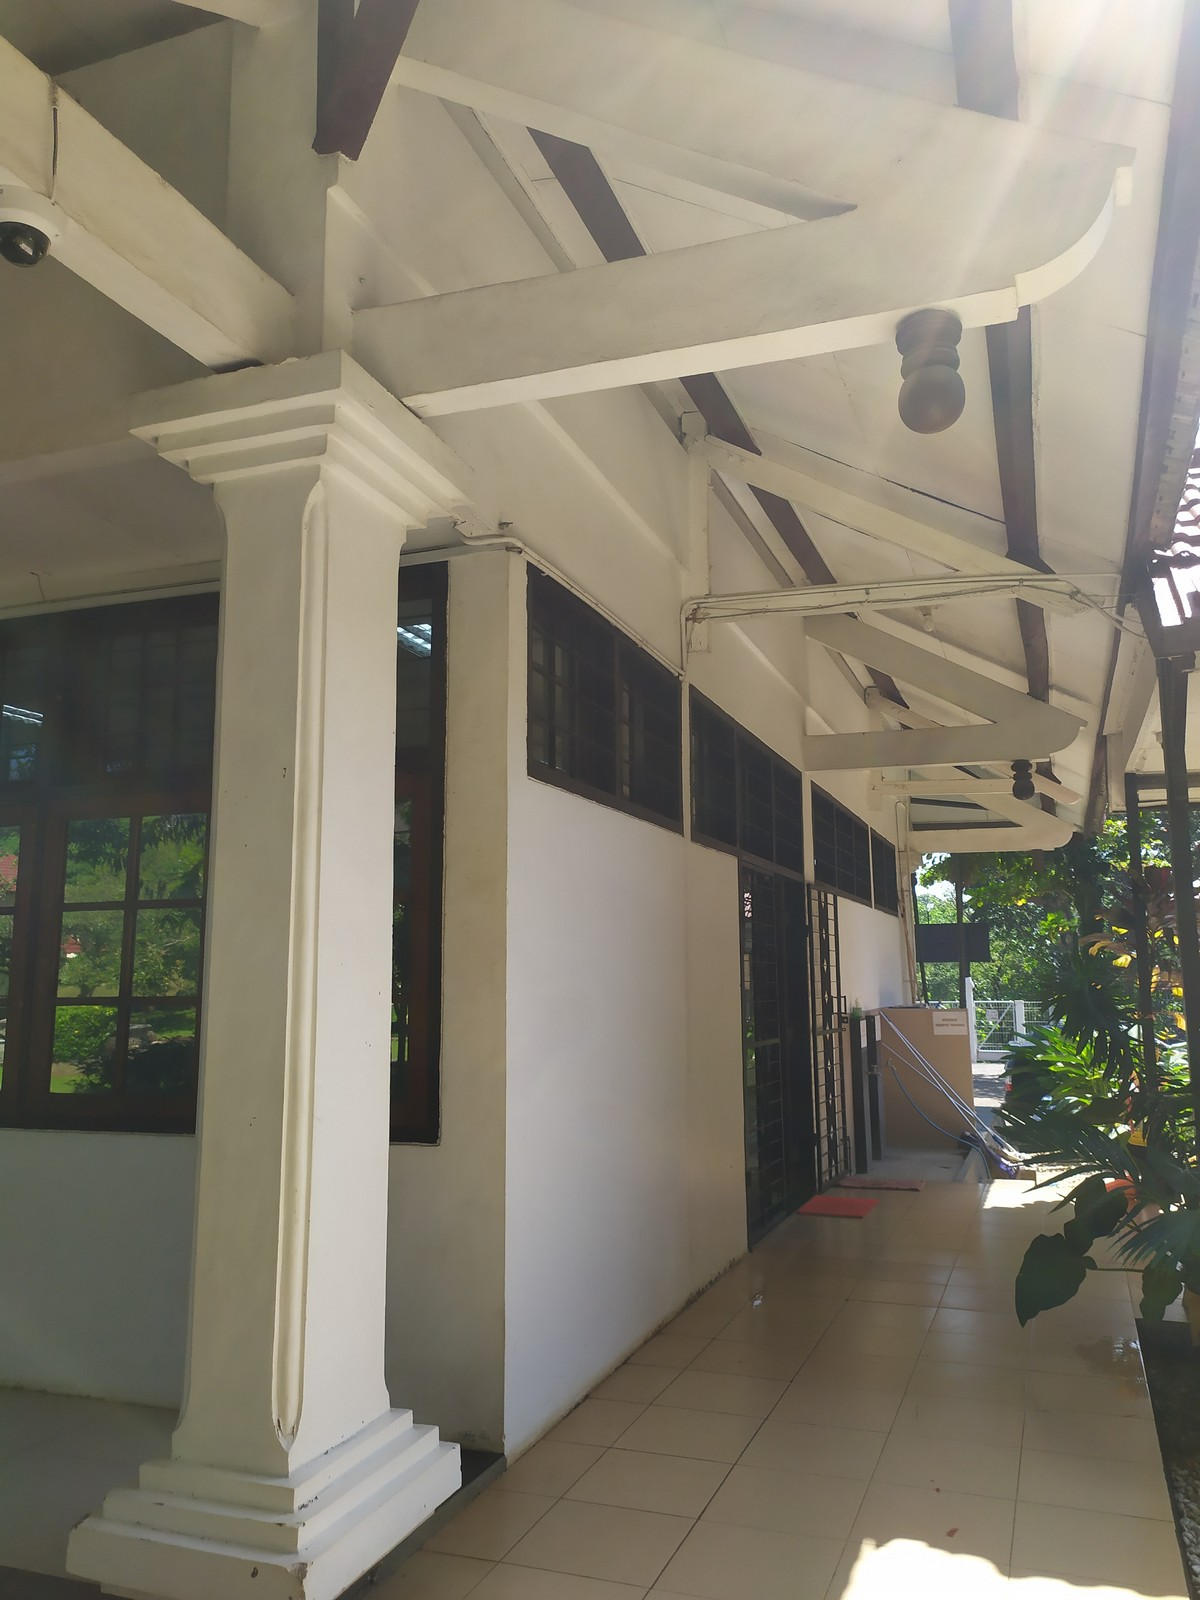concrete beam: (353, 241, 889, 425), (6, 72, 301, 382)
concrete column: (173, 488, 413, 1441)
